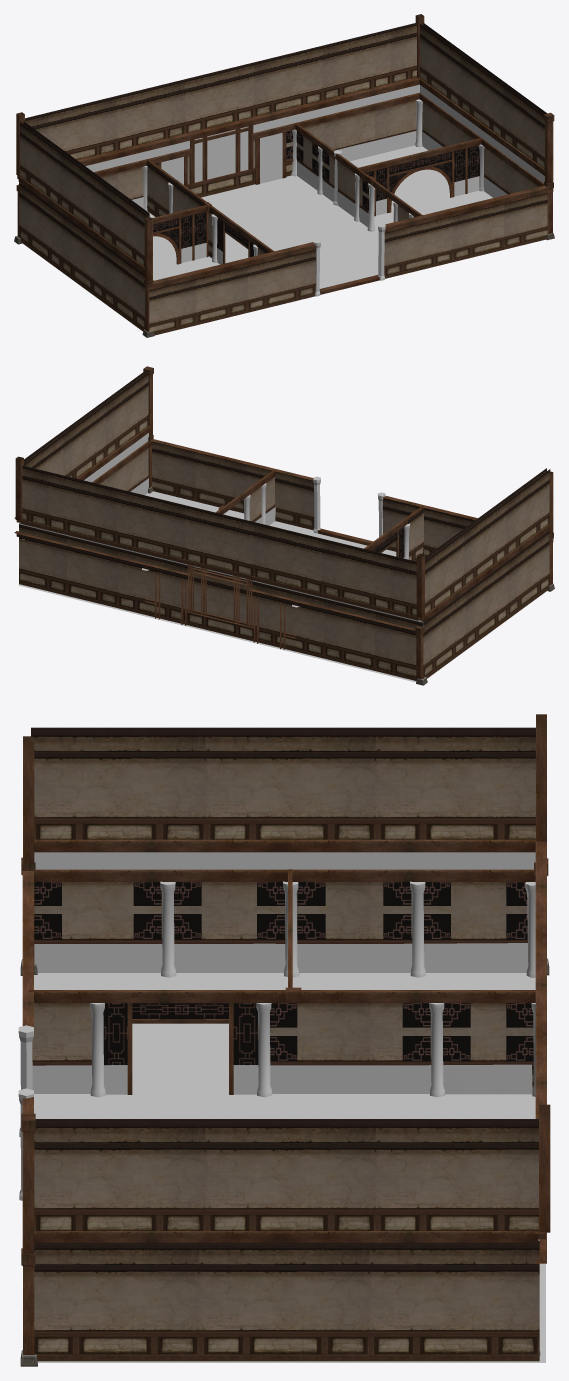
The model's file is s7_3d_lmzc_bieshushinei01.FBX.
3 renders of one model, top to bottom at view 1: azimuth 30°, elevation 25°; view 2: azimuth 150°, elevation 25°; view 3: azimuth 270°, elevation 25°, orthographic. The views are drawn at different scales.
Visible parts, largest first — view 1: Object10, Object14, Object11, Object09, Object023, Object022, Object021, Object12, Object16, Object019, Object06, Object024 (+1 smaller); view 2: Object10, Object11, Object14, Object12, Object09; view 3: Object10, Object11, Object14, Object09, Object06, Object07, Object018.
Part boxes in pixels (x1,y1,x2,y2): Object10: [17, 22, 547, 335]; Object14: [22, 84, 544, 331]; Object11: [14, 14, 554, 337]; Object09: [132, 99, 507, 264]; Object023: [365, 145, 479, 201]; Object022: [358, 138, 481, 216]; Object021: [161, 133, 282, 184]; Object12: [189, 125, 253, 185]; Object16: [153, 212, 206, 249]; Object019: [152, 205, 208, 264]; Object06: [155, 130, 368, 211]; Object024: [376, 176, 479, 215]; Object10: [17, 371, 550, 680]; Object11: [14, 366, 554, 685]; Object14: [18, 433, 547, 682]; Object12: [188, 564, 252, 626]; Object09: [22, 478, 410, 607]; Object10: [31, 727, 545, 1361]; Object11: [20, 714, 550, 1366]; Object14: [34, 852, 545, 1362]; Object09: [32, 881, 541, 1355]; Object06: [34, 882, 533, 1061]; Object07: [103, 1003, 258, 1065]; Object018: [18, 1025, 33, 1137].
Bounding box in the file's own units: 40.05 × 11.98 × 22.49.
